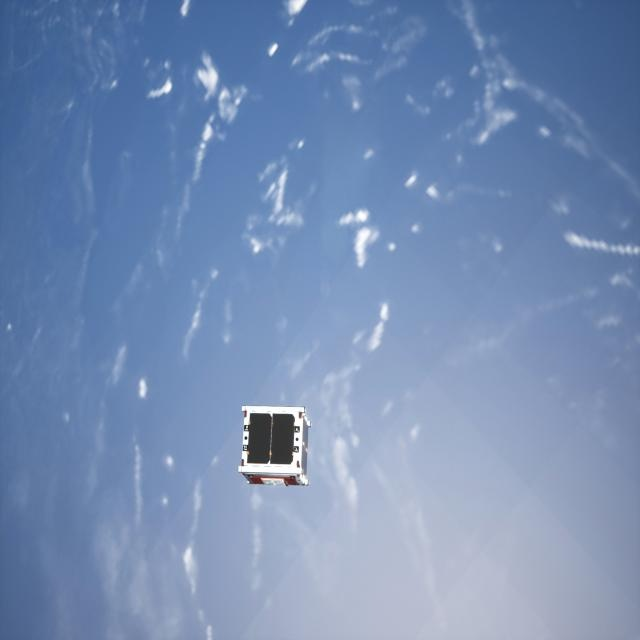satellite: (235, 400, 314, 494)
